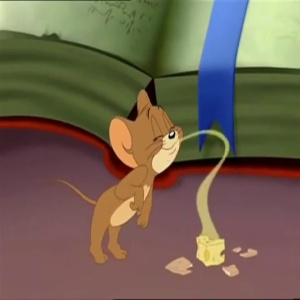Jerry: (101, 88, 185, 175)
